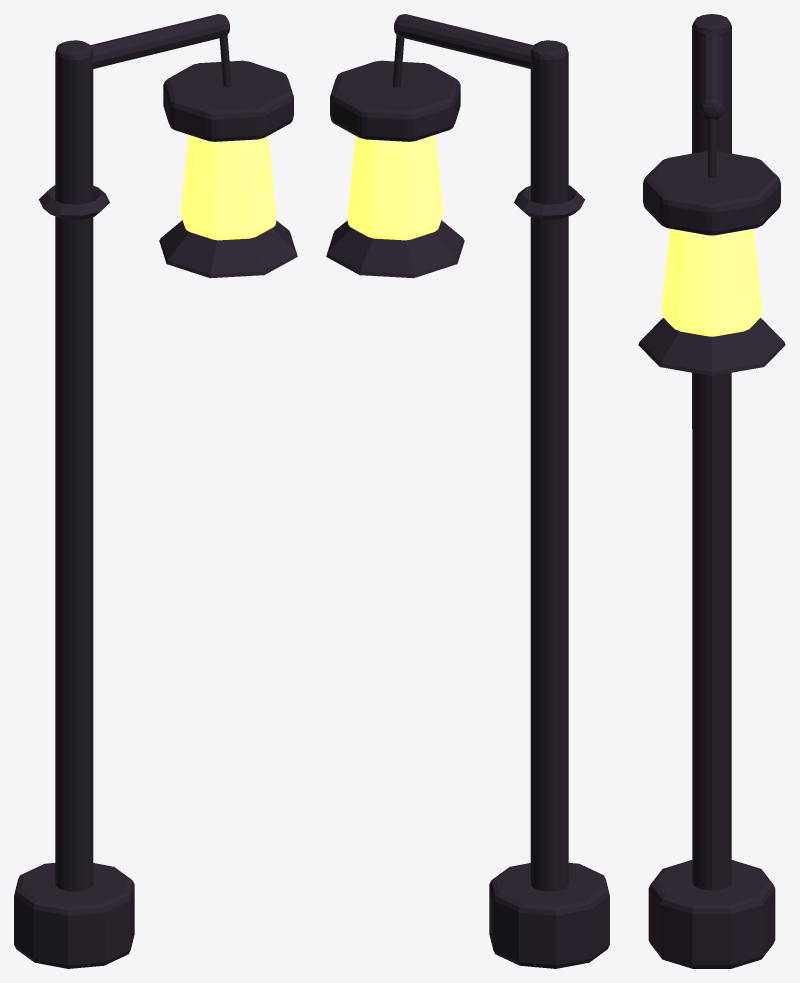
Rendered from lantern_post.glb.
3 views of the same model, side by side, from view 1: azimuth 30°, elevation 25°; view 2: azimuth 150°, elevation 25°; view 3: azimuth 270°, elevation 25° (orthographic). The views are drawn at different scales.
Visible parts, largest first — view 1: lantern_post, dyn_lamp; view 2: lantern_post, dyn_lamp; view 3: lantern_post, dyn_lamp.
Boxes of the visible parts, x1,y1,x2,y2 form: lantern_post: (14, 14, 297, 968); dyn_lamp: (180, 134, 276, 240); lantern_post: (326, 14, 609, 968); dyn_lamp: (347, 134, 443, 240); lantern_post: (638, 14, 785, 968); dyn_lamp: (661, 228, 762, 336).
Size of the model in its own units: 0.9005 by 2.9 by 0.4186.
